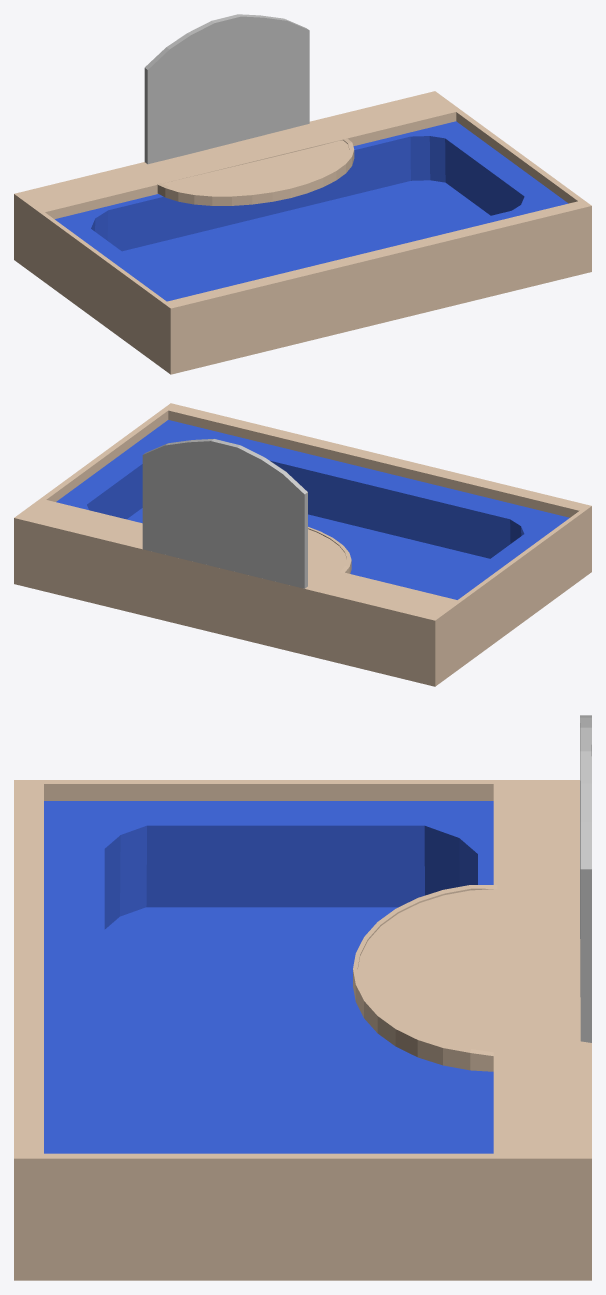
Rendered from hoboinew.fbx.
3 views of the same model, one above another, from view 1: azimuth 30°, elevation 25°; view 2: azimuth 150°, elevation 25°; view 3: azimuth 270°, elevation 25° (orthographic). The views are drawn at different scales.
Parts seen in each view (by area): view 1: ngoai, trong, tuong; view 2: ngoai, trong, tuong; view 3: ngoai, trong, tuong.
Boxes of the visible parts, x1,y1,x2,y2 form: ngoai: [14, 91, 591, 374]; trong: [55, 121, 568, 301]; tuong: [144, 14, 309, 164]; ngoai: [14, 403, 591, 686]; trong: [56, 420, 569, 599]; tuong: [142, 439, 307, 588]; ngoai: [14, 780, 591, 1280]; trong: [44, 801, 493, 1153]; tuong: [580, 715, 591, 1042].
Bounding box in the file's own units: 795 × 345 × 513.
